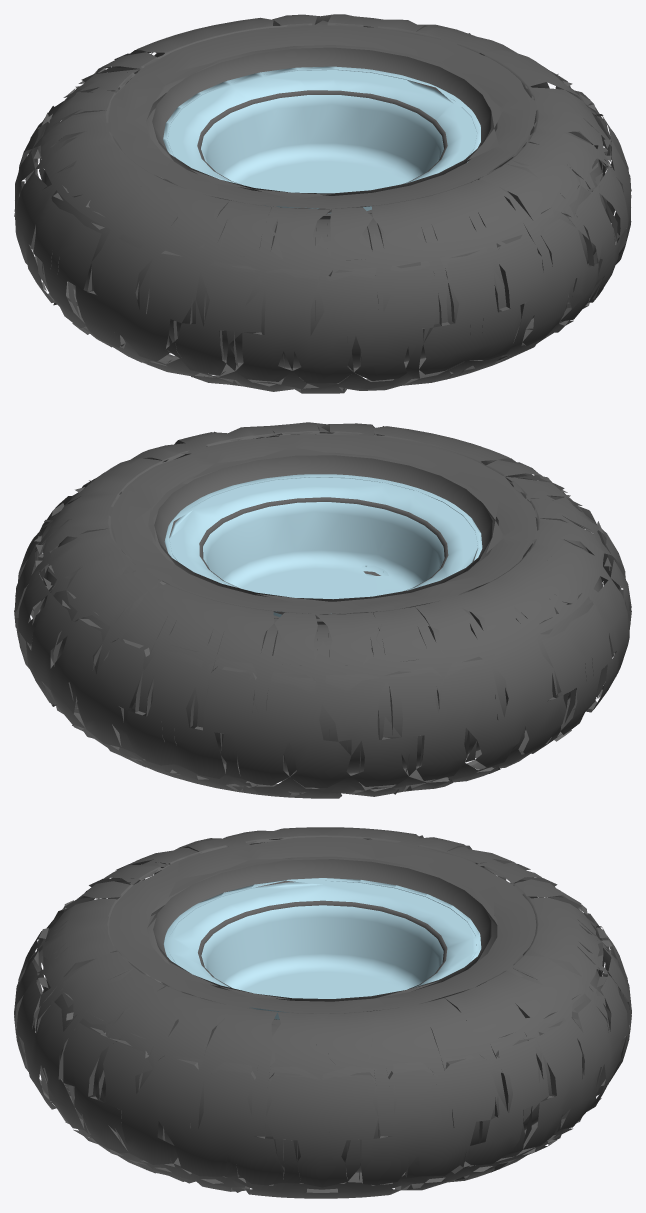
The model's file is front_left_wheel_visual.obj.
The picture shows the model from 3 angles, top to bottom: view 1: azimuth 30°, elevation 25°; view 2: azimuth 150°, elevation 25°; view 3: azimuth 270°, elevation 25°; orthographic projection.
Parts seen in each view (by area): view 1: front_left_wheel_visual; view 2: front_left_wheel_visual; view 3: front_left_wheel_visual.
Part boxes in pixels (bbox=[...]): front_left_wheel_visual: bbox=[14, 14, 631, 393]; front_left_wheel_visual: bbox=[14, 422, 631, 798]; front_left_wheel_visual: bbox=[14, 827, 631, 1198].
Bounding box in the file's own units: 0.255 × 0.082 × 0.255.
